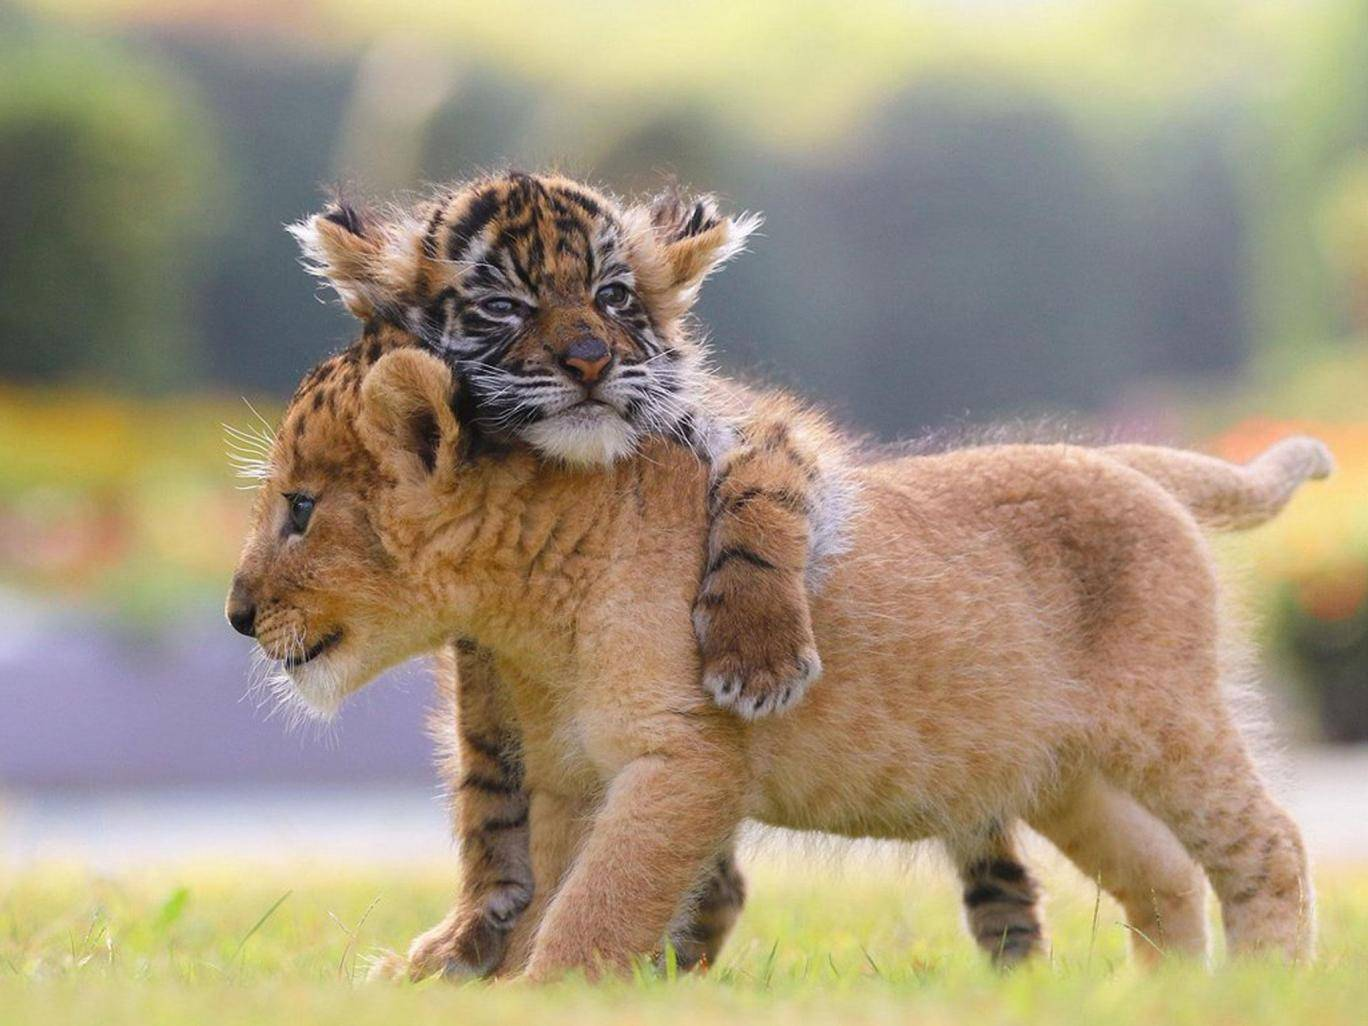lion: (231, 348, 1336, 976)
tiger: (290, 174, 1066, 987)
